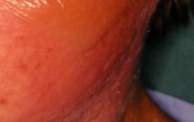SJS-TEN: (0, 0, 191, 122)
